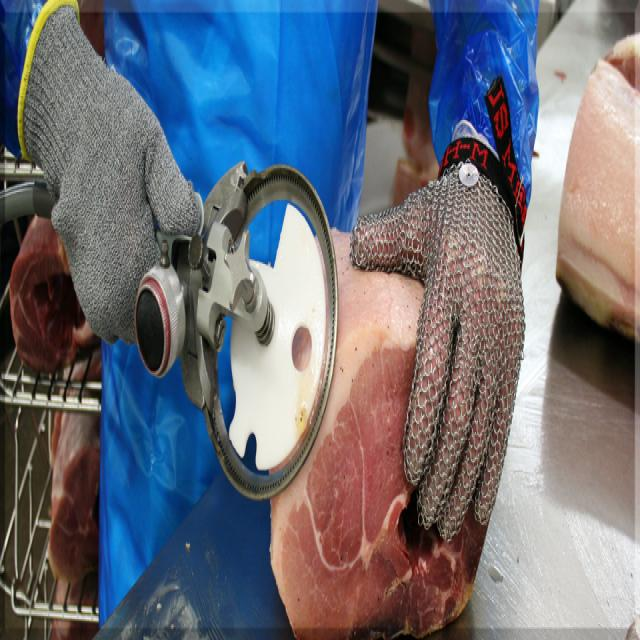gloves: (352, 117, 529, 549), (19, 2, 209, 344)
